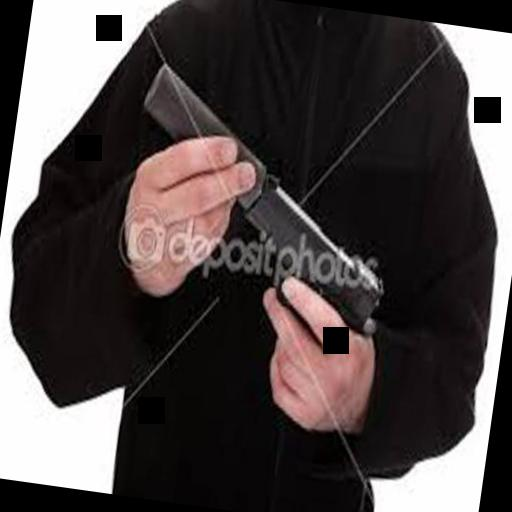Handgun: (116, 58, 410, 371)
